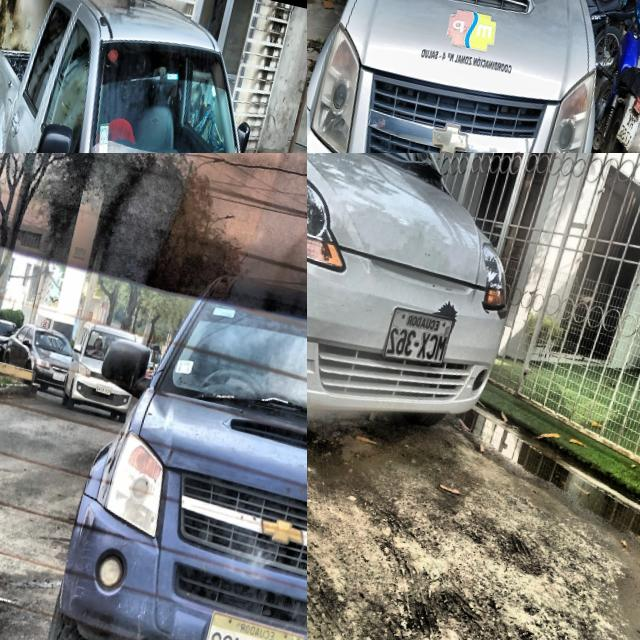license_plate: (382, 304, 455, 367), (203, 608, 307, 640)
